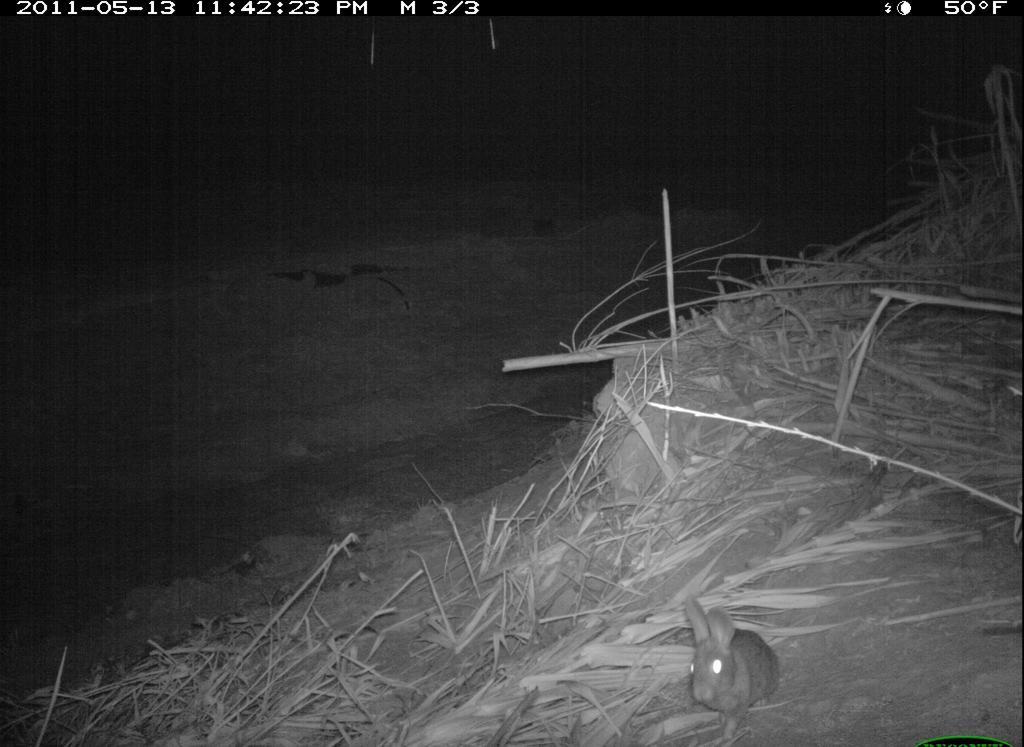rabbit: (675, 589, 790, 738)
